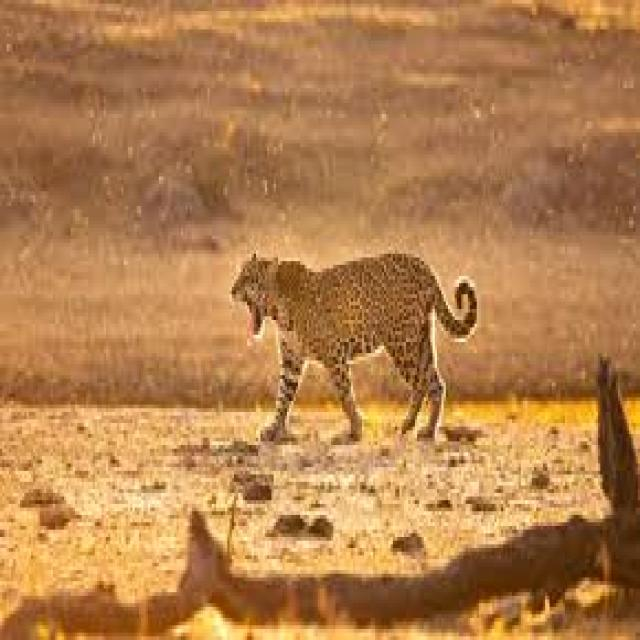Jaguar: (223, 239, 483, 456)
